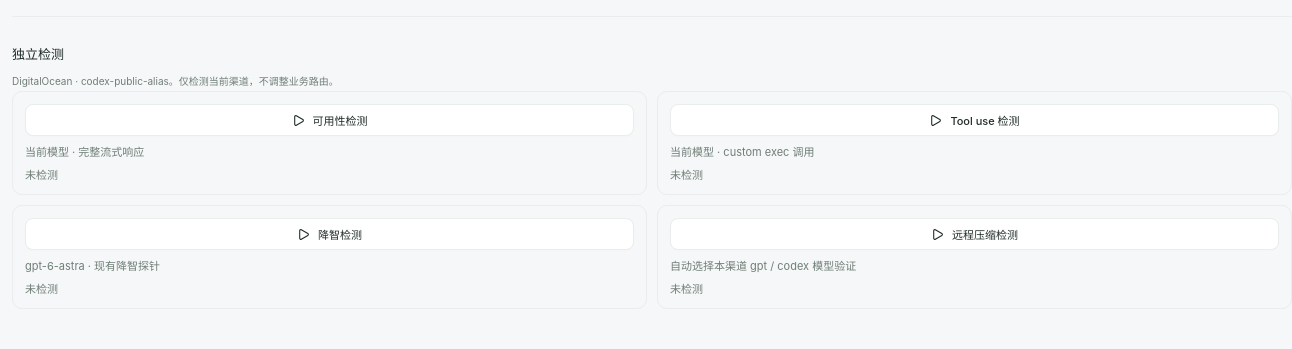
Test: shows submission errors without disabling unrelated probes
The width and height of the screenshot is (1292, 349).
Click the button "远程压缩检测" at (974, 234), box x1=670 y1=218 x2=1279 y2=250
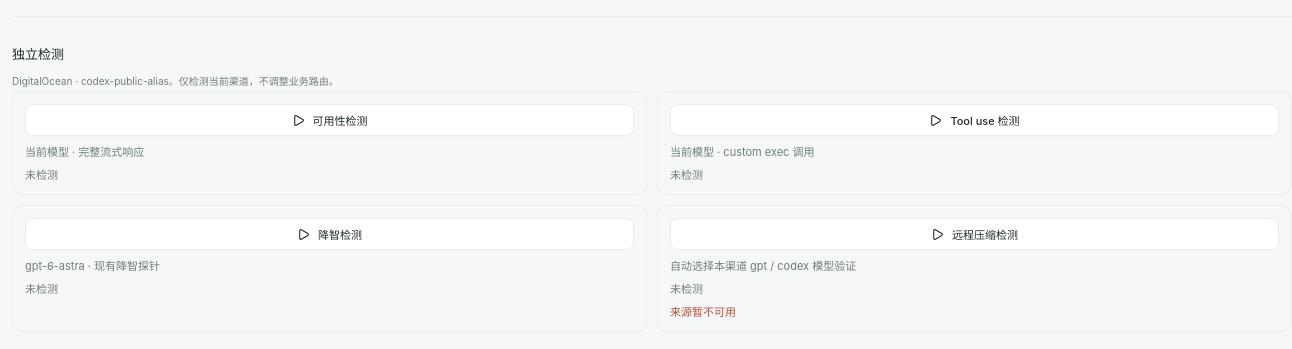
Expected: the button "可用性检测" is enabled, x1=25 y1=104 x2=634 y2=136
Expected: the message "来源暂不可用" is shown, x1=670 y1=305 x2=736 y2=319
